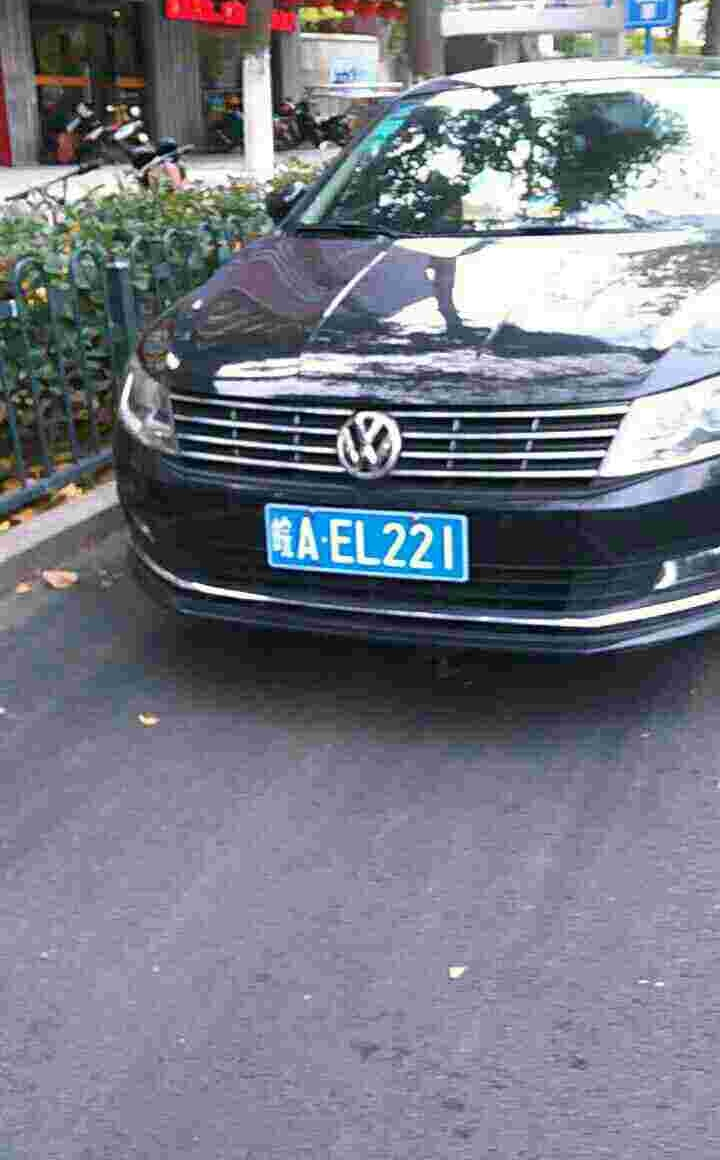license_plate: (271, 501, 479, 583)
